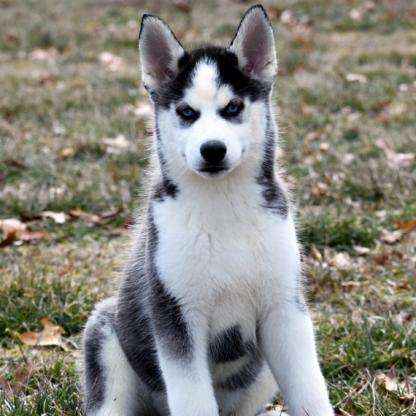husky: (78, 5, 332, 416)
